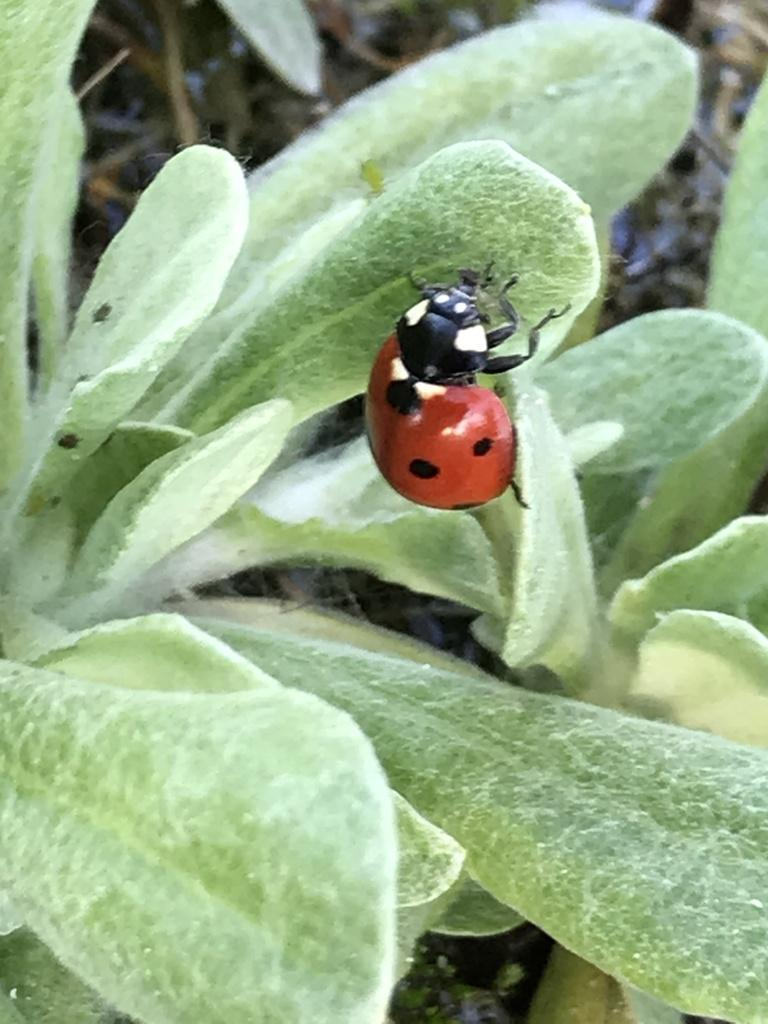ladybug: (364, 256, 577, 512)
